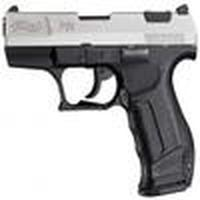gun: (2, 7, 200, 188)
